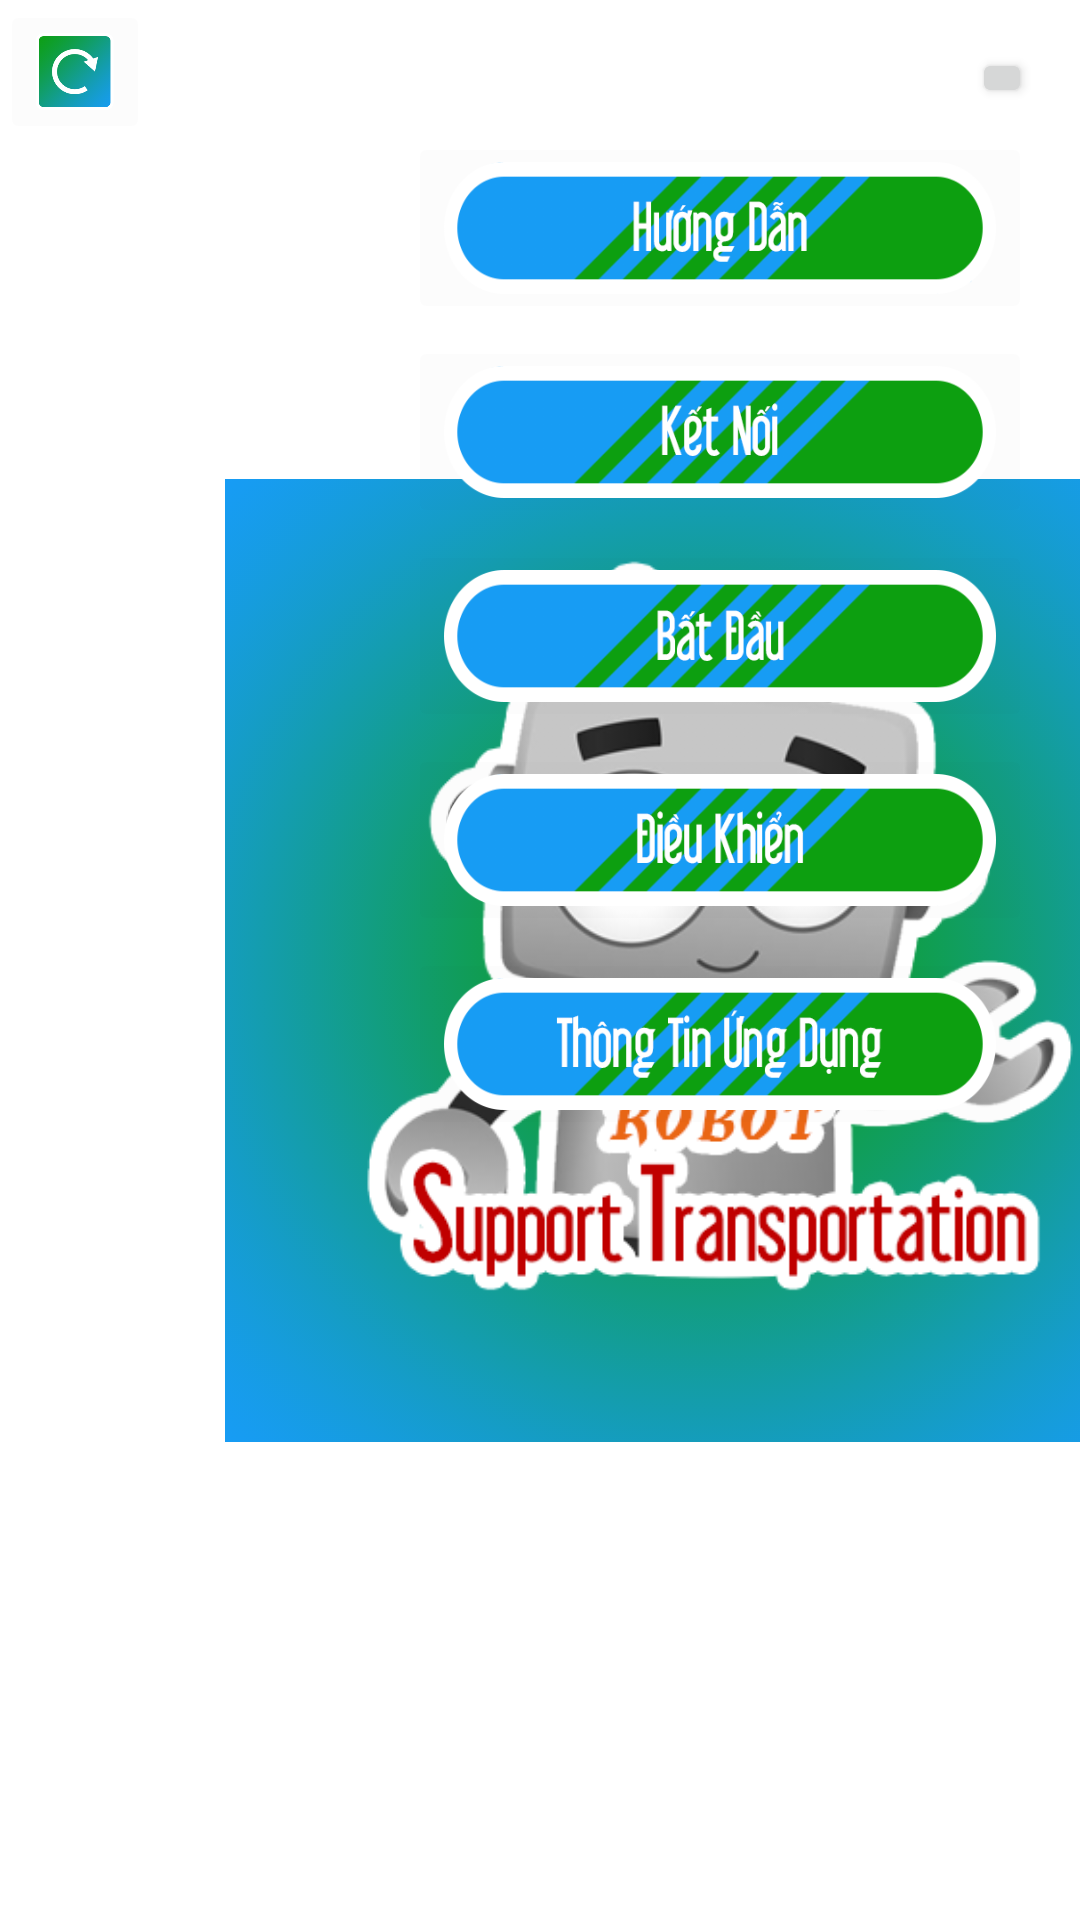

Screen size 1080px×1920px. Icon name, then its box in pixels as box=[x1, y1, x2, y2]:
reset: box=[39, 36, 111, 107]
